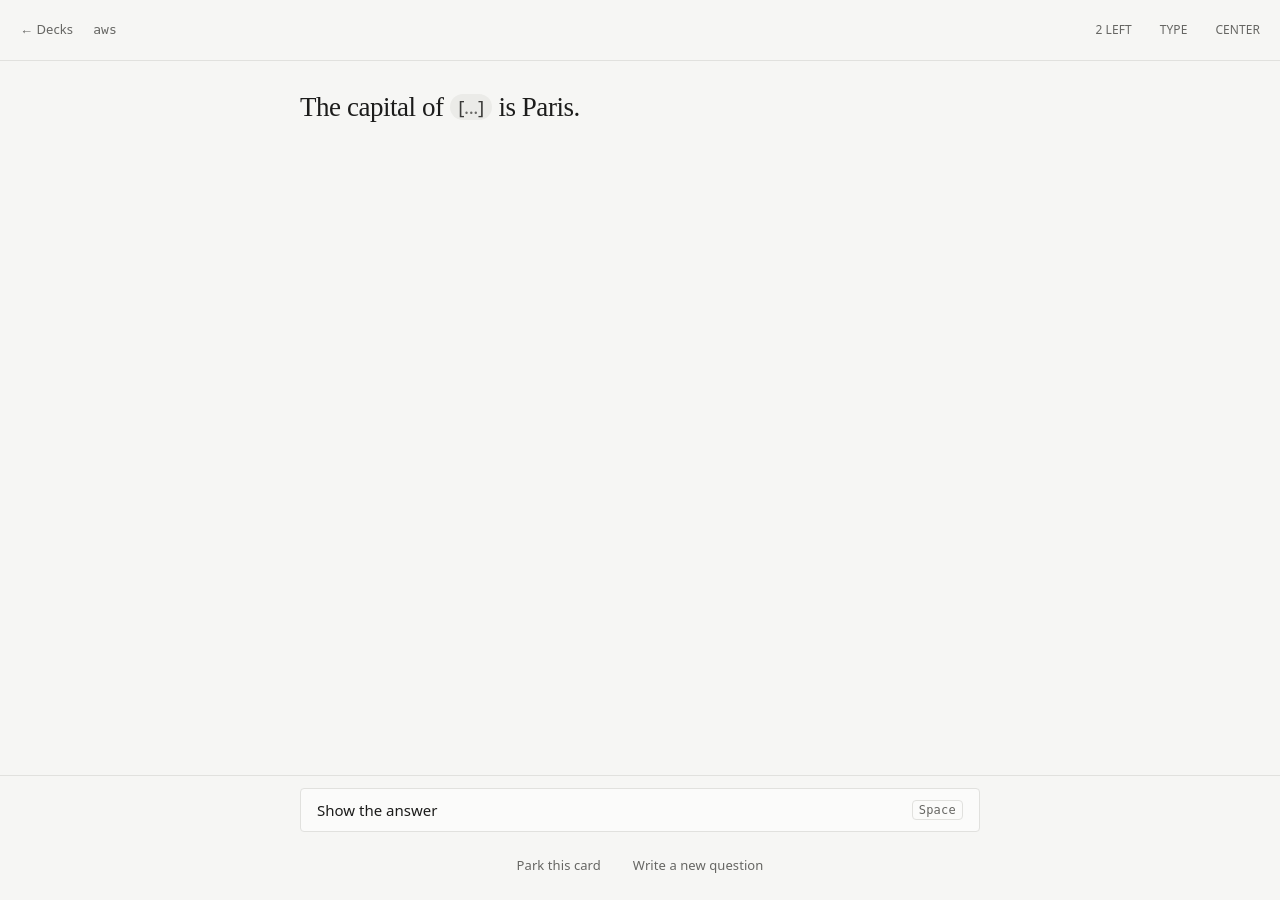
Test case: ReviewSession undoing the last step (#600) › #600 A6 Undo takes back a suspend, putting the cloze's other number back in the queue too
Expected: the field with class "cm-content" is shown, [300,92,580,122]
Click the button "Park this card" at (559, 866), box [513,844,605,888]
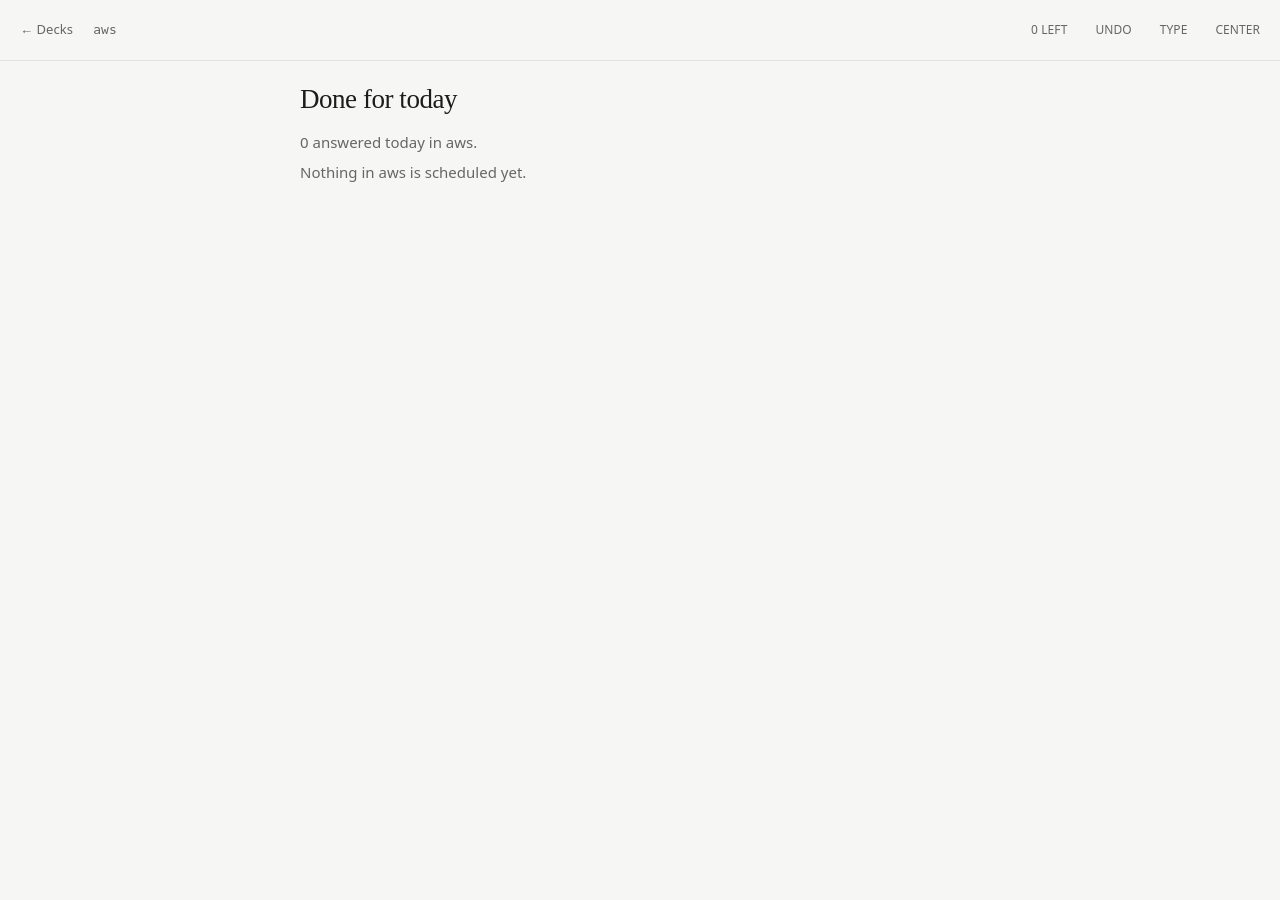
Expected: the element with test id "review-done" is shown, [300,84,526,182]
Expected: the button "Undo" is shown
Click the button "Undo" at (1114, 30), box [1087,8,1140,52]
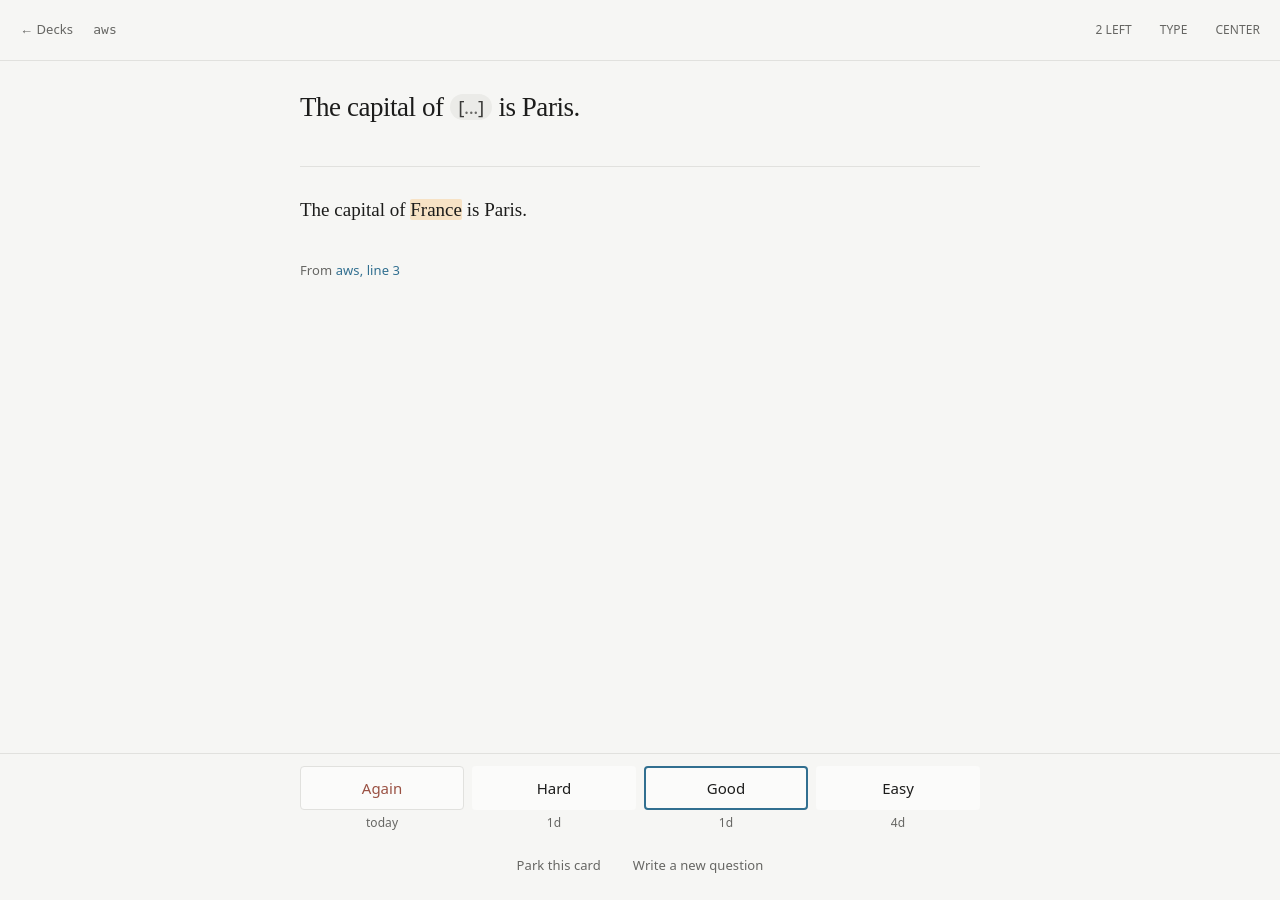
Expected: the element with test id "review-card" shows "The capital of [...] is Paris.", [300,85,980,280]
Expected: the element with test id "review-back" shows "France", [410,199,462,220]
Expected: the text "2 left" is shown, [1095,21,1132,38]
